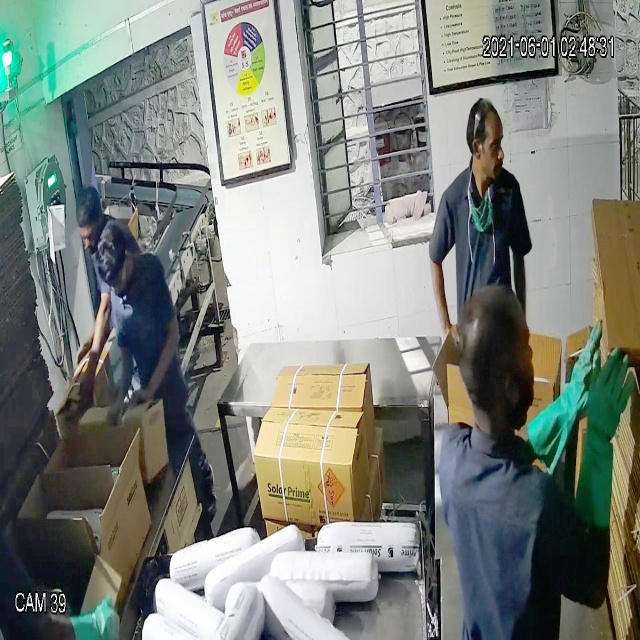Sin_gafas: (464, 126, 510, 160)
